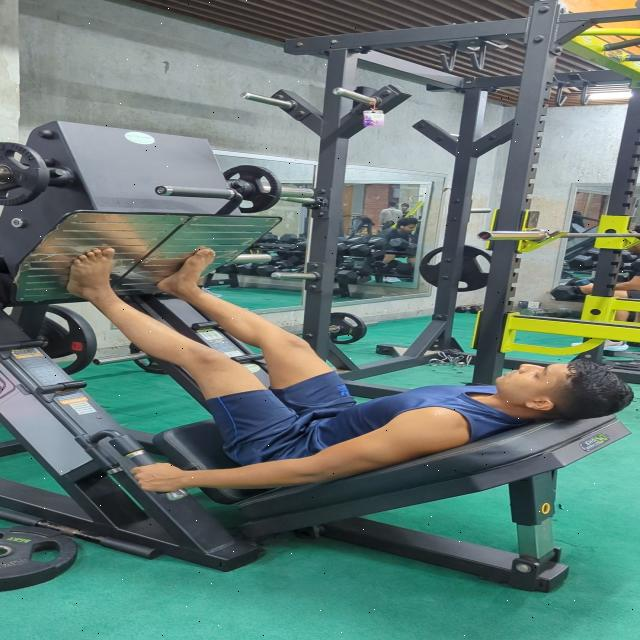Normal_LegPress: (50, 235, 634, 502)
